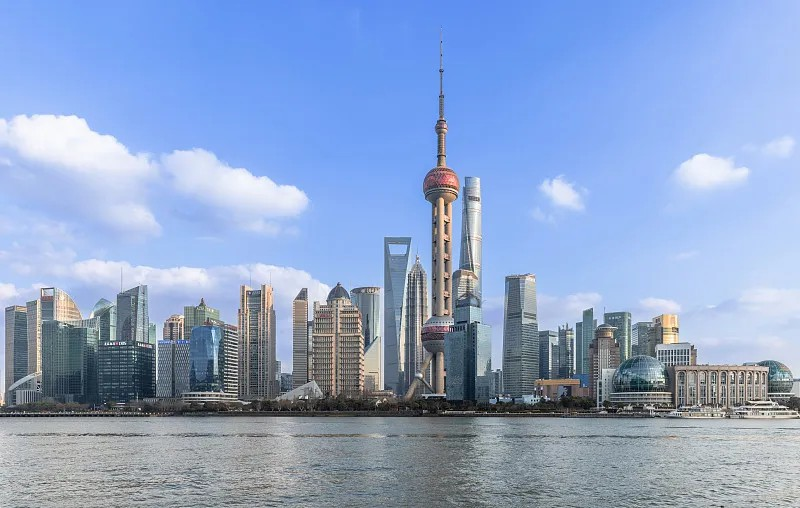Oriental: (406, 27, 459, 396)
